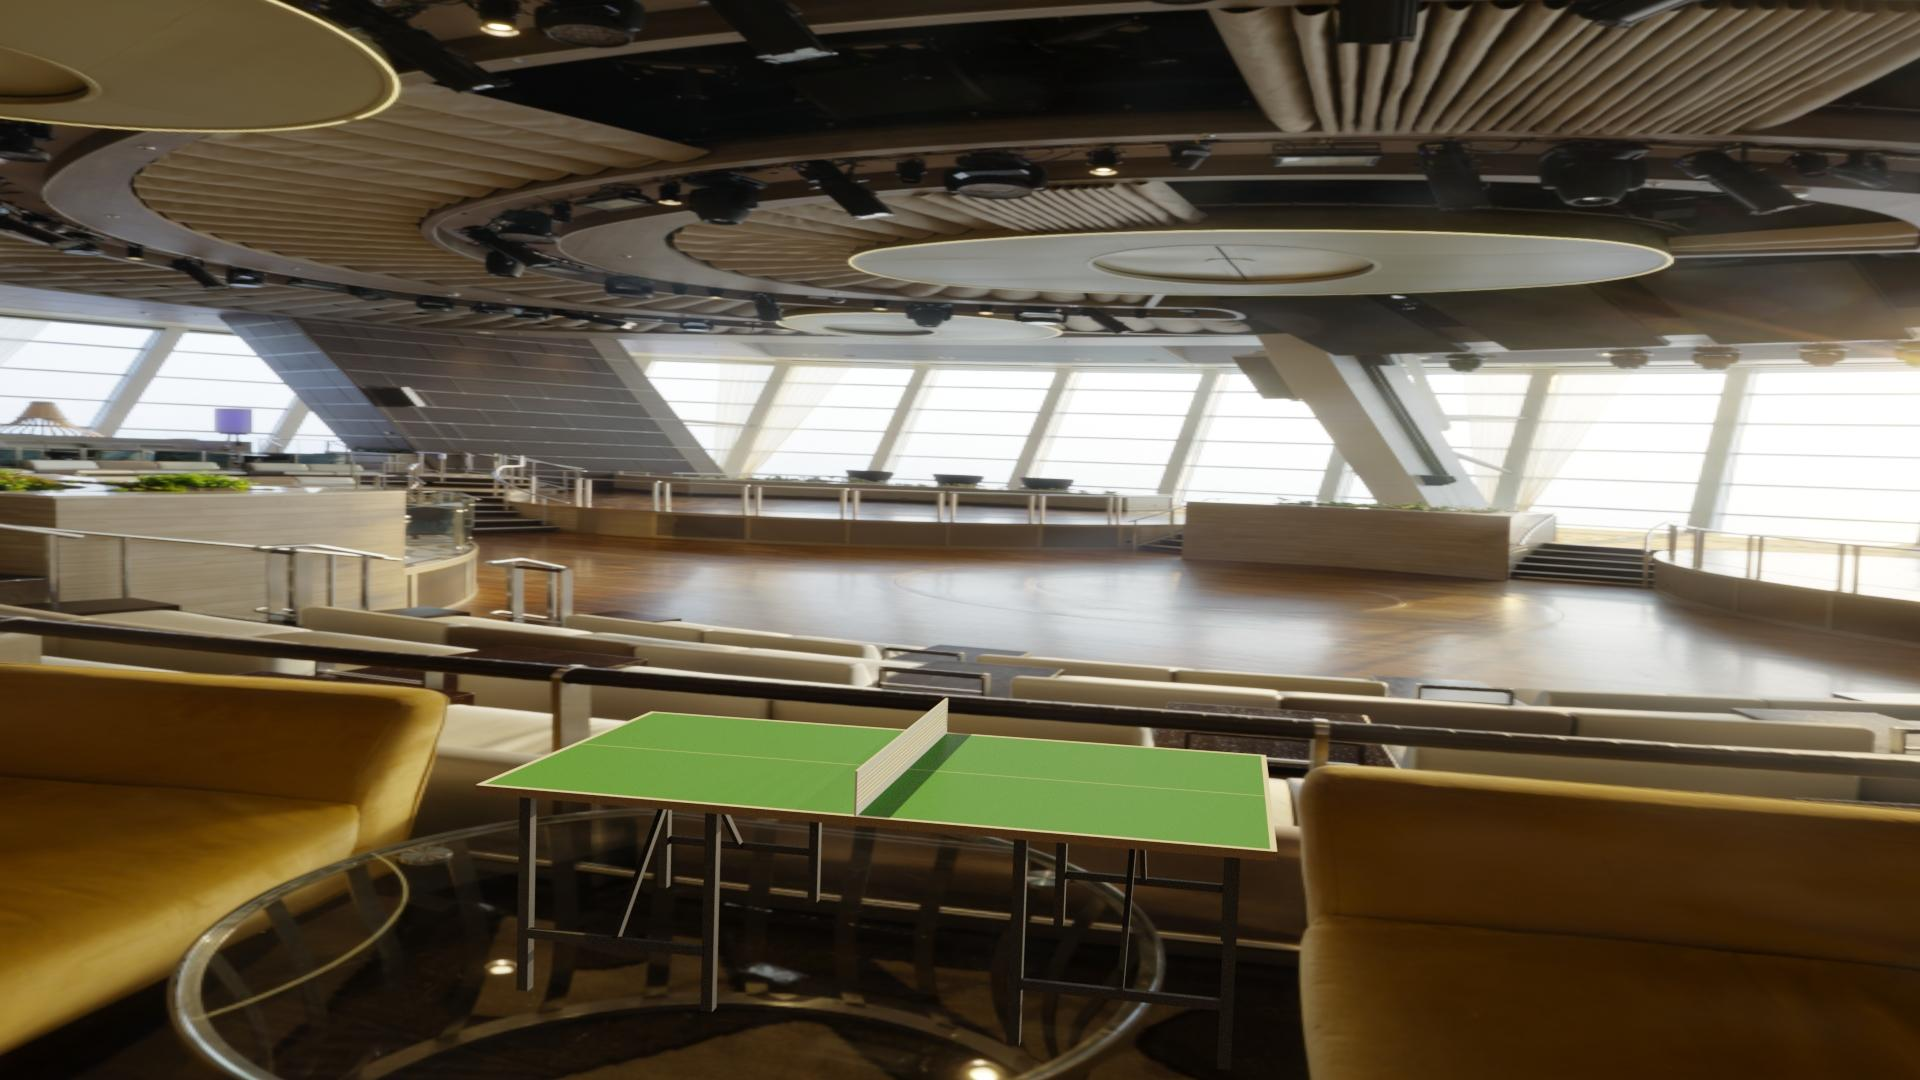table: (484, 712, 1270, 849)
